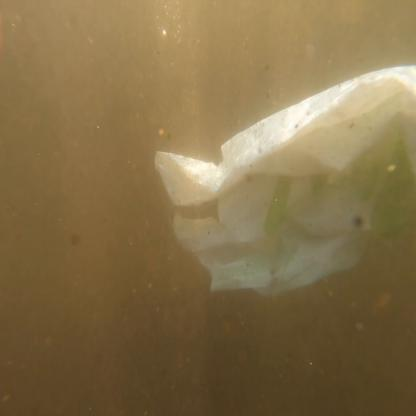Rác: (167, 68, 415, 303)
